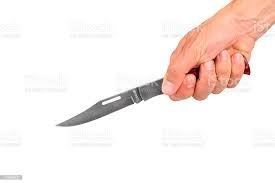knife: (54, 55, 251, 127)
